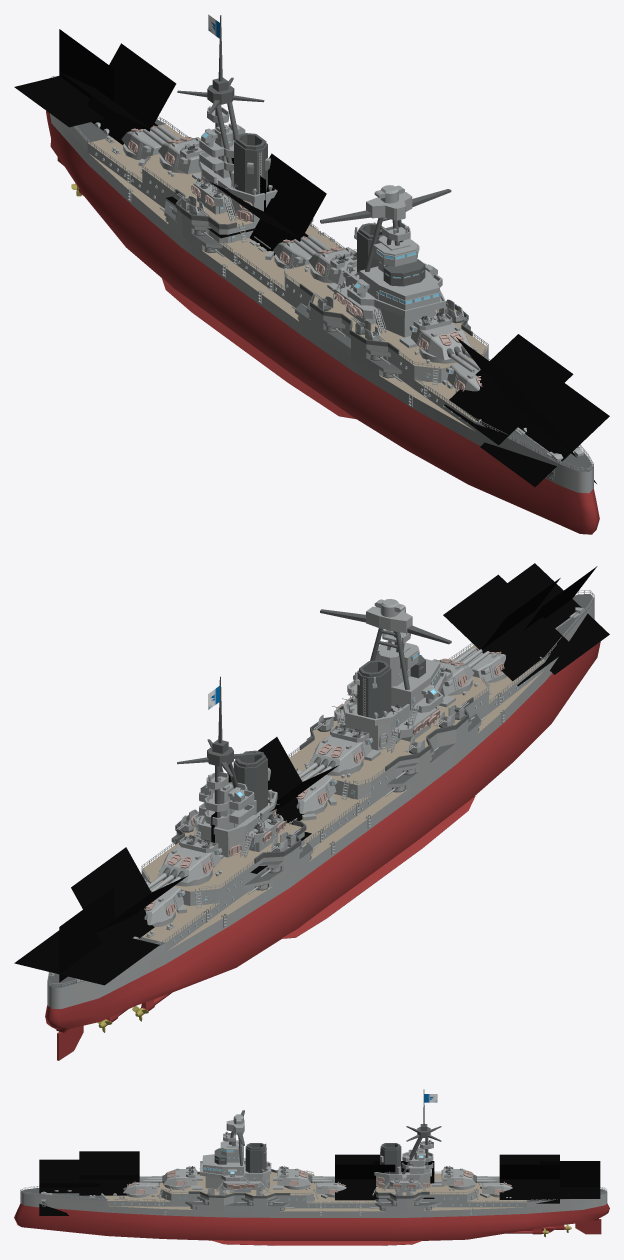
3 renders of one model, top to bottom at view 1: azimuth 30°, elevation 25°; view 2: azimuth 150°, elevation 25°; view 3: azimuth 270°, elevation 25°, orthographic. The views are drawn at different scales.
Visible parts, largest first — view 1: Underwater_Hull, Blast_Image (×5), Main_Deck, Main_Tower, Sceondary_Tower, Front_Deck, Secon_Rear_Deck2, MainGun_B, MainGun_E, MainGun_C, MainGun_F, Barbelt (+2 smaller); view 2: Underwater_Hull, Blast_Image (×5), Main_Tower, Main_Deck, Sceondary_Tower, Front_Deck, Secon_Rear_Deck2, MainGun_E, MainGun_C, Barbelt, MainGun_D, MainGun_F (+2 smaller); view 3: Underwater_Hull, Blast_Image (×6), Main_Deck, Main_Tower, Sceondary_Tower, Front_Deck, Secon_Rear_Deck2, MainGun_E, MainGun_B, MainGun_C, Barbelt, MainGun_A (+3 smaller).
Part boxes in pixels (x1,y1,x2,y2): Underwater_Hull: [46, 111, 599, 534]; Blast_Image (×5): [14, 29, 609, 486]; Main_Deck: [50, 75, 593, 481]; Main_Tower: [320, 185, 451, 337]; Sceondary_Tower: [177, 15, 277, 222]; Front_Deck: [284, 249, 488, 385]; Secon_Rear_Deck2: [140, 154, 258, 243]; MainGun_B: [409, 313, 471, 360]; MainGun_E: [158, 136, 204, 174]; MainGun_C: [309, 246, 356, 284]; MainGun_F: [121, 125, 182, 159]; Barbelt: [123, 143, 472, 392]; Underwater_Hull: [45, 608, 600, 1032]; Blast_Image (×5): [14, 563, 609, 985]; Main_Tower: [320, 599, 451, 752]; Main_Deck: [47, 590, 594, 996]; Sceondary_Tower: [177, 676, 285, 857]; Front_Deck: [287, 676, 491, 799]; Secon_Rear_Deck2: [141, 815, 306, 907]; MainGun_E: [157, 836, 222, 882]; MainGun_C: [308, 725, 372, 772]; Barbelt: [152, 672, 506, 927]; MainGun_D: [296, 770, 337, 813]; MainGun_F: [144, 881, 185, 925]; Underwater_Hull: [14, 1197, 609, 1245]; Blast_Image (×6): [39, 1151, 600, 1215]; Main_Deck: [20, 1182, 607, 1216]; Main_Tower: [200, 1110, 271, 1192]; Sceondary_Tower: [374, 1089, 441, 1192]; Front_Deck: [158, 1169, 318, 1205]; Secon_Rear_Deck2: [372, 1171, 479, 1206]; MainGun_E: [441, 1166, 476, 1185]; MainGun_B: [163, 1166, 197, 1185]; MainGun_C: [277, 1166, 311, 1185]; Barbelt: [126, 1185, 499, 1197]; MainGun_A: [123, 1181, 157, 1194].
Size of the model in its own units: 32.55 by 60.49 by 226.
Materials: 10 (1 with a texture image).
